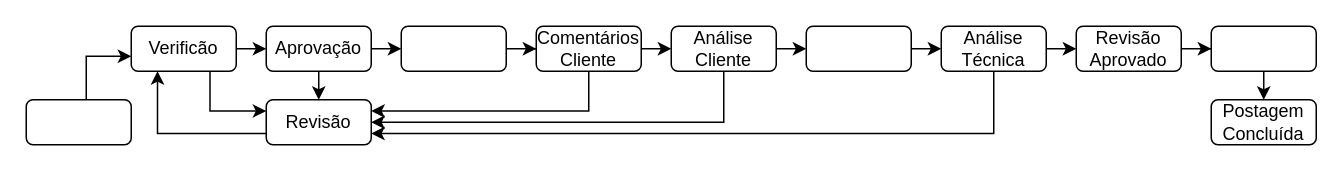
Image size: 1343x173. Some labels were removed from this diagram. Here are the shapes that lost their labels. From the top down, the centre of each, then its label:
At (x=453, y=48): "Emessão".
At (x=858, y=48): "Comentários Proprietário".
At (x=1263, y=48): "Emissão Aprovado".
At (x=78, y=121): "Postagem Inicial".
